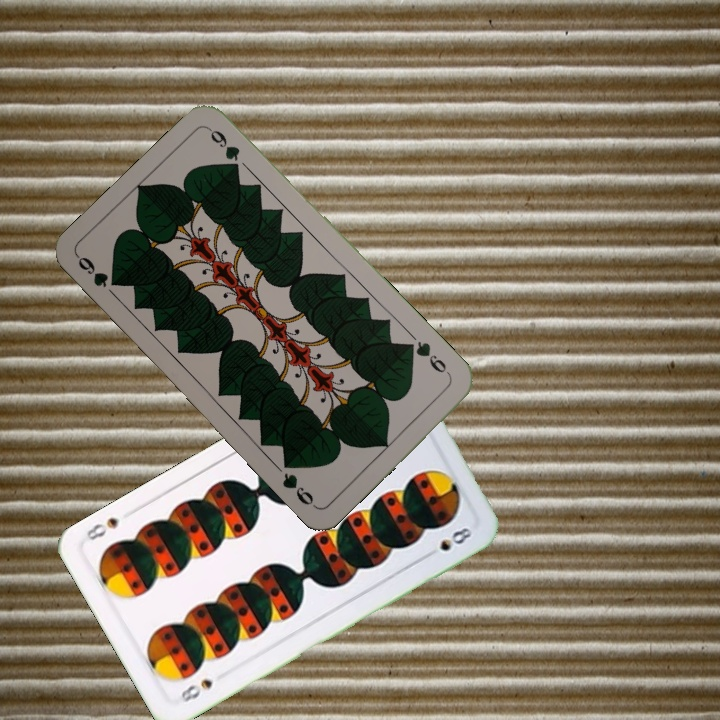G9: (402, 337, 454, 380), (73, 252, 122, 290)
S8: (177, 674, 216, 705)
